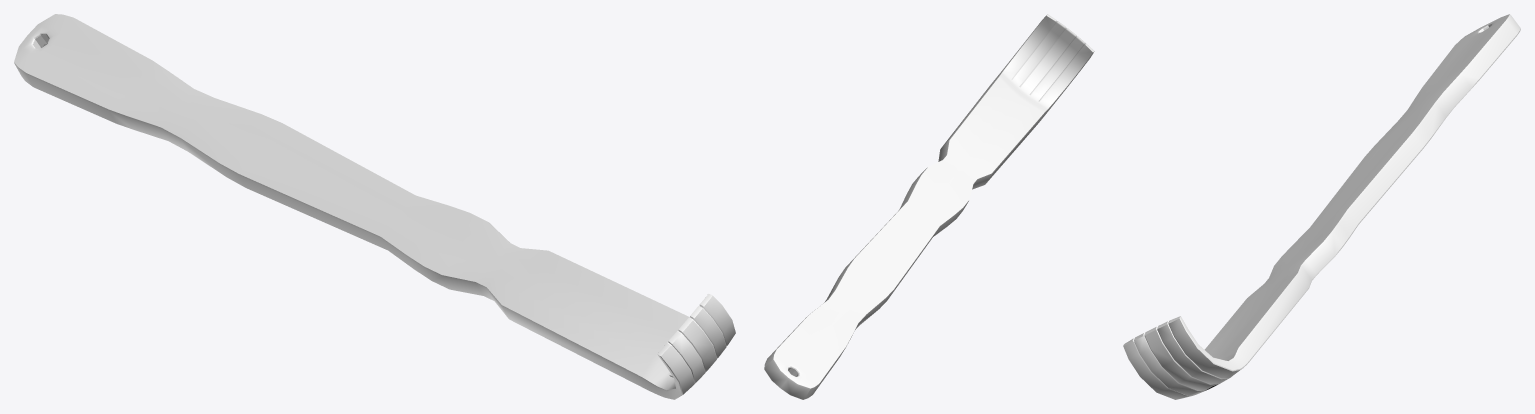
The model's file is WoodHand.glb.
The picture shows the model from 3 angles, left to right: view 1: azimuth 30°, elevation 25°; view 2: azimuth 150°, elevation 25°; view 3: azimuth 330°, elevation 25°; orthographic projection. The views are drawn at different scales.
Parts seen in each view (by area): view 1: 应用.001; view 2: 应用.001; view 3: 应用.001.
Boxes of the visible parts, x1,y1,x2,y2 form: 应用.001: (14, 14, 735, 399); 应用.001: (764, 14, 1094, 399); 应用.001: (1123, 14, 1520, 399).
Bounding box in the file's own units: 0.8196 × 0.4121 × 3.37.
1 material, 1 textured.
